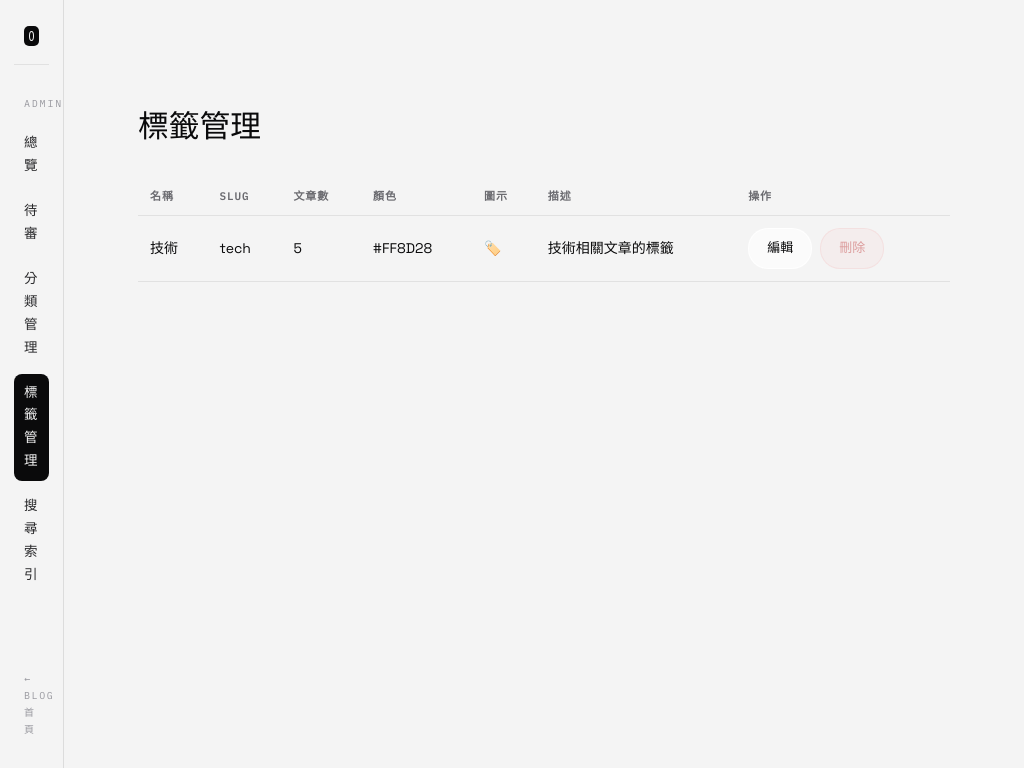
Test: AdminTagsView › 編輯標籤 › 點「編輯」開啟表單，name/slug 唯讀呈現（無輸入框）且值正確
Click the button with test id "admin-tags-edit-tag-uuid-1": (780, 249) [748,228,812,269]
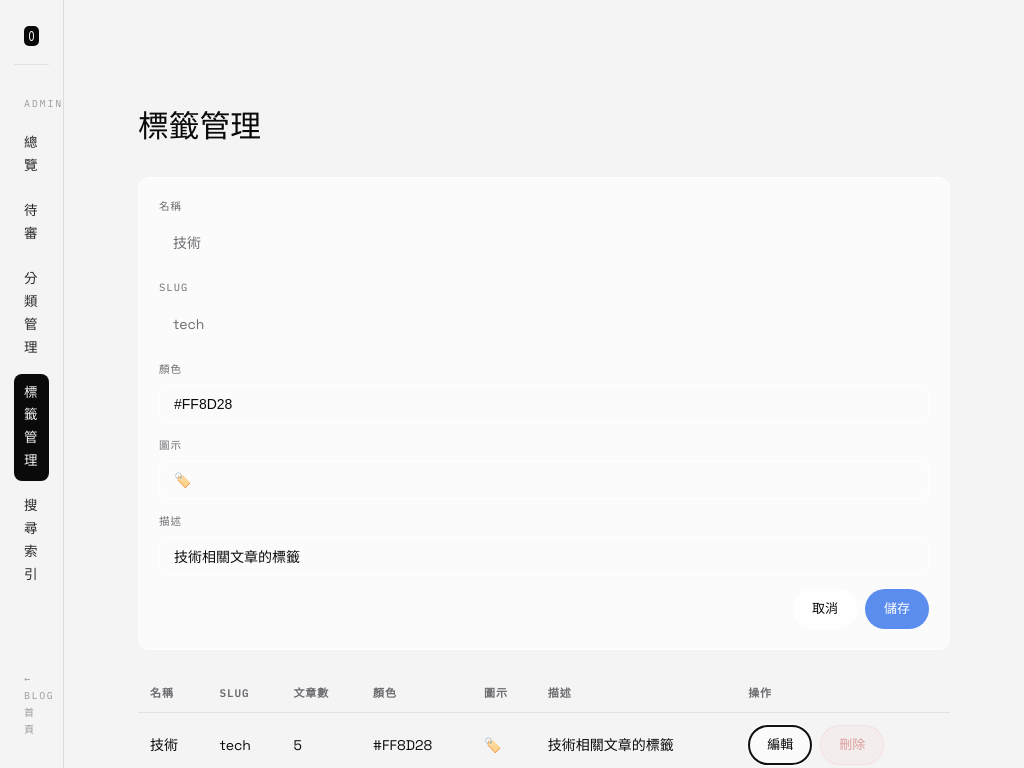
expect the text with test id "admin-tags-form-name" reads "技術": met, box [173,234,201,252]
expect the text with test id "admin-tags-form-slug" reads "tech": met, box [173,315,204,333]
